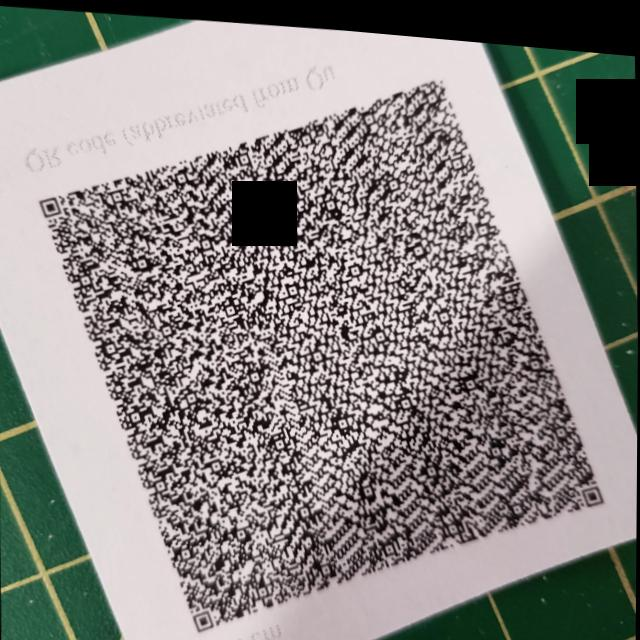QR_CODE: (22, 19, 625, 640)
